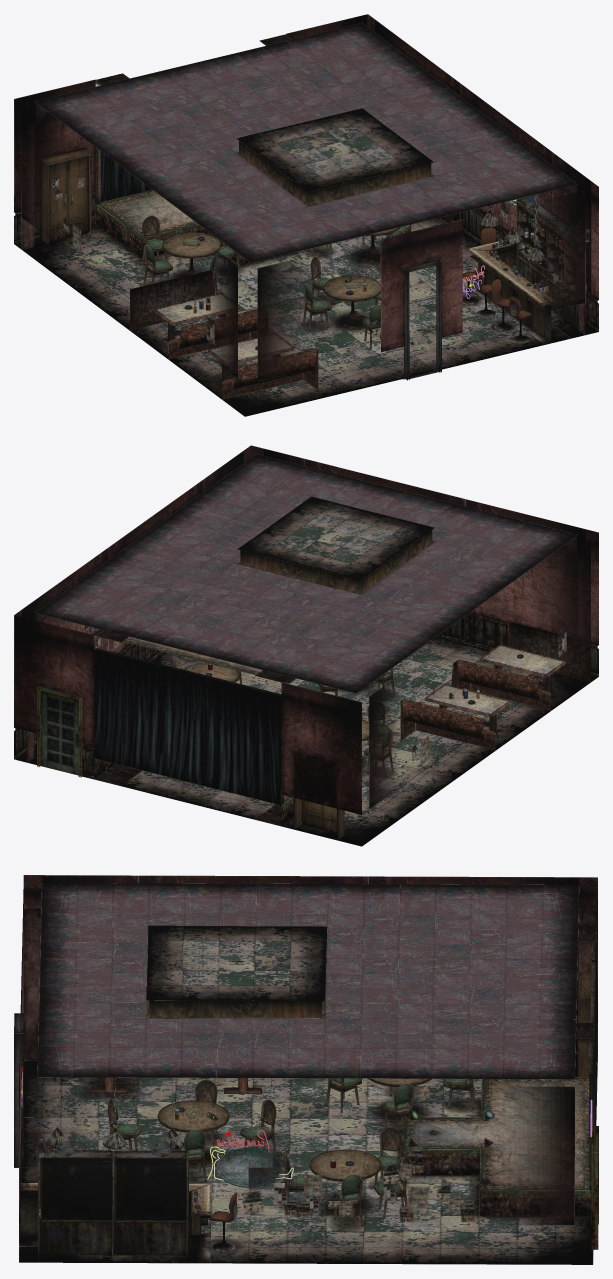
The model's file is heavens_night.glb.
The picture shows the model from 3 angles, top to bottom: view 1: azimuth 30°, elevation 25°; view 2: azimuth 150°, elevation 25°; view 3: azimuth 270°, elevation 25°; orthographic projection. The views are drawn at different scales.
Parts seen in each view (by area): view 1: Heaven's Night_Material__311_0, Heaven's Night_Material__308_0, Heaven's Night_Material__306_0, Heaven's Night_Material__304_0, Heaven's Night_Material__307_0, Heaven's Night_Material__305_0, Heaven's Night_Material__303_0, Heaven's Night_Material__302_0, Heaven's Night_Material__312_0, Heaven's Night_Material__309_0, Heaven's Night_Material__313_0, Heaven's Night_Material__318_0 (+1 smaller); view 2: Heaven's Night_Material__311_0, Heaven's Night_Material__308_0, Heaven's Night_Material__307_0, Heaven's Night_Material__310_0, Heaven's Night_Material__305_0, Heaven's Night_Material__304_0, Heaven's Night_Material__306_0, Heaven's Night_Material__302_0, Heaven's Night_Material__318_0, Heaven's Night_Material__309_0, Heaven's Night_Material__312_0, Heaven's Night_Material__313_0; view 3: Heaven's Night_Material__311_0, Heaven's Night_Material__308_0, Heaven's Night_Material__309_0, Heaven's Night_Material__303_0, Heaven's Night_Material__306_0, Heaven's Night_Material__302_0, Heaven's Night_Material__305_0, Heaven's Night_Material__318_0, Heaven's Night_Material__307_0, Heaven's Night_Material__304_0, Heaven's Night_Material__313_0, Heaven's Night_Material__316_0 (+2 smaller).
Part boxes in pixels (x1,y1,x2,y2): Heaven's Night_Material__311_0: (35, 23, 577, 262); Heaven's Night_Material__308_0: (14, 108, 598, 416); Heaven's Night_Material__306_0: (21, 20, 591, 381); Heaven's Night_Material__304_0: (130, 147, 557, 399); Heaven's Night_Material__307_0: (14, 14, 568, 352); Heaven's Night_Material__305_0: (14, 14, 598, 384); Heaven's Night_Material__303_0: (193, 196, 590, 343); Heaven's Night_Material__302_0: (142, 215, 546, 349); Heaven's Night_Material__312_0: (39, 148, 589, 350); Heaven's Night_Material__309_0: (95, 190, 291, 265); Heaven's Night_Material__313_0: (91, 224, 518, 333); Heaven's Night_Material__318_0: (51, 33, 505, 397); Heaven's Night_Material__311_0: (35, 454, 578, 693); Heaven's Night_Material__308_0: (14, 496, 598, 846); Heaven's Night_Material__307_0: (14, 479, 566, 814); Heaven's Night_Material__310_0: (93, 648, 284, 805); Heaven's Night_Material__305_0: (14, 445, 598, 814); Heaven's Night_Material__304_0: (330, 535, 590, 750); Heaven's Night_Material__306_0: (22, 449, 591, 809); Heaven's Night_Material__302_0: (170, 658, 401, 776); Heaven's Night_Material__318_0: (85, 625, 569, 778); Heaven's Night_Material__309_0: (94, 636, 296, 825); Heaven's Night_Material__312_0: (205, 654, 523, 839); Heaven's Night_Material__313_0: (94, 681, 377, 827); Heaven's Night_Material__311_0: (37, 883, 579, 1079); Heaven's Night_Material__308_0: (19, 925, 597, 1264); Heaven's Night_Material__309_0: (403, 1077, 596, 1215); Heaven's Night_Material__303_0: (35, 1104, 237, 1255); Heaven's Night_Material__306_0: (14, 875, 597, 1261); Heaven's Night_Material__302_0: (108, 1078, 475, 1229); Heaven's Night_Material__305_0: (19, 875, 597, 1255); Heaven's Night_Material__318_0: (76, 921, 596, 1254); Heaven's Night_Material__307_0: (21, 883, 598, 1249); Heaven's Night_Material__304_0: (19, 961, 494, 1262); Heaven's Night_Material__313_0: (172, 1098, 596, 1221); Heaven's Night_Material__316_0: (207, 1129, 293, 1187).
Bounding box in the file's own units: 10.4 × 4.47 × 12.09.
Materials: 15 (15 with a texture image).
